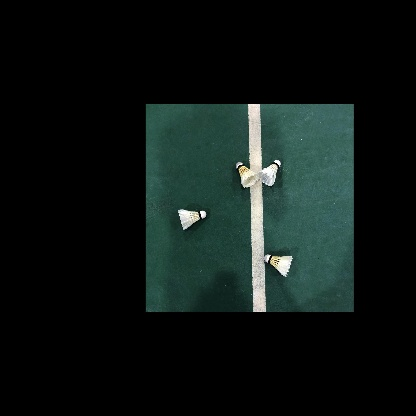ball_single: (264, 254, 293, 277), (258, 160, 281, 186), (236, 162, 259, 188), (178, 209, 206, 230)
